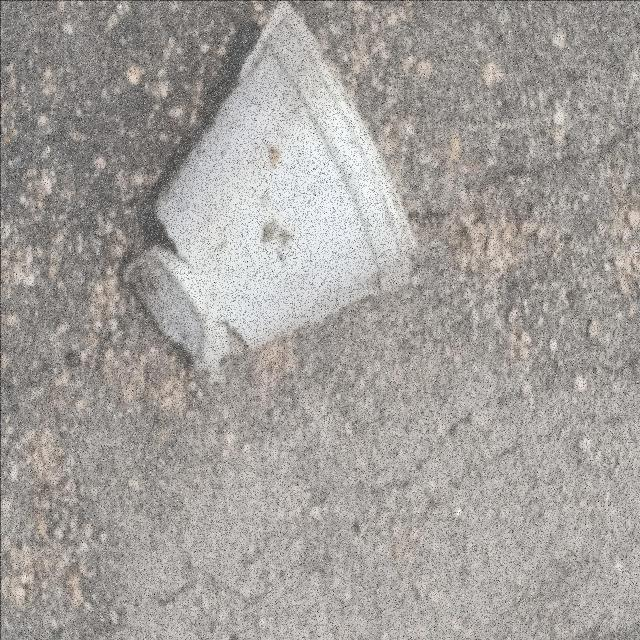styrofoam_waste: (127, 2, 416, 374)
